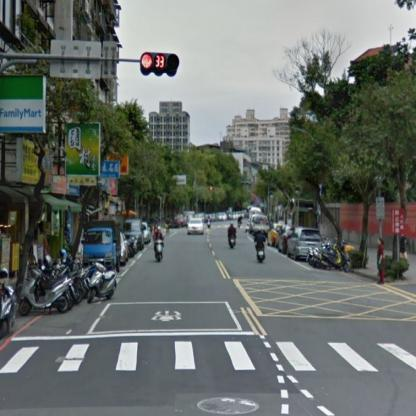Red Light: (139, 50, 179, 78)
